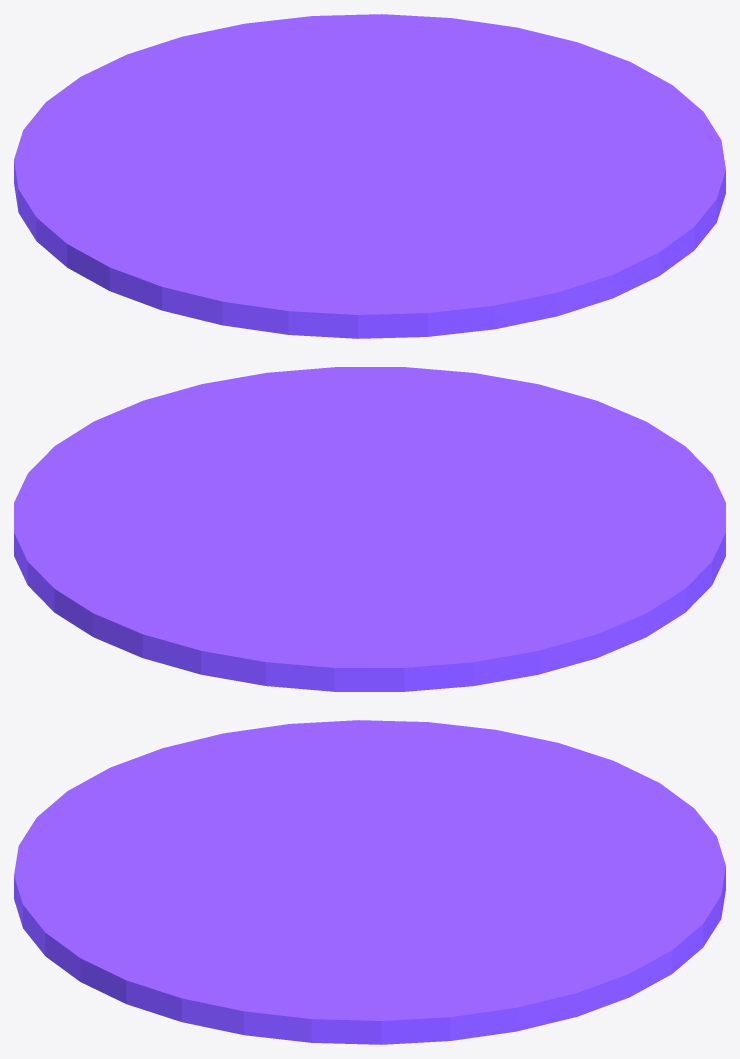
The model's file is circular-platform2.glb.
The picture shows the model from 3 angles, top to bottom: view 1: azimuth 30°, elevation 25°; view 2: azimuth 150°, elevation 25°; view 3: azimuth 270°, elevation 25°; orthographic projection.
Visible parts, largest first — view 1: platform; view 2: platform; view 3: platform.
Part boxes in pixels (<box>): platform: <box>14,14,725,338</box>; platform: <box>14,367,725,691</box>; platform: <box>14,720,725,1044</box>.
Size of what is drawn, in the model's own units: 1.03 by 0.038 by 1.03.
